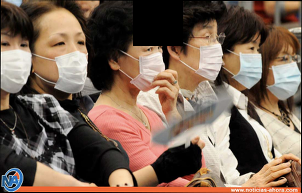with_mask: (36, 29, 90, 94), (122, 35, 167, 94), (182, 23, 225, 80), (1, 30, 33, 95), (226, 39, 265, 90), (268, 49, 302, 101)
